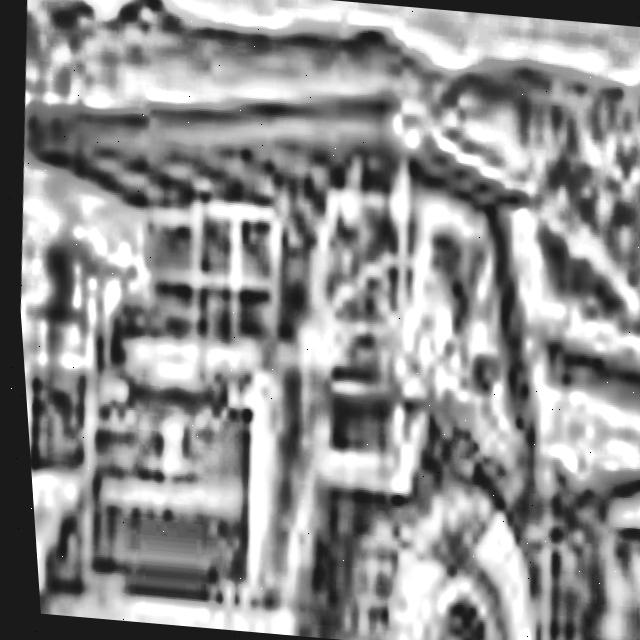dump_truck: (3, 57, 640, 640)
